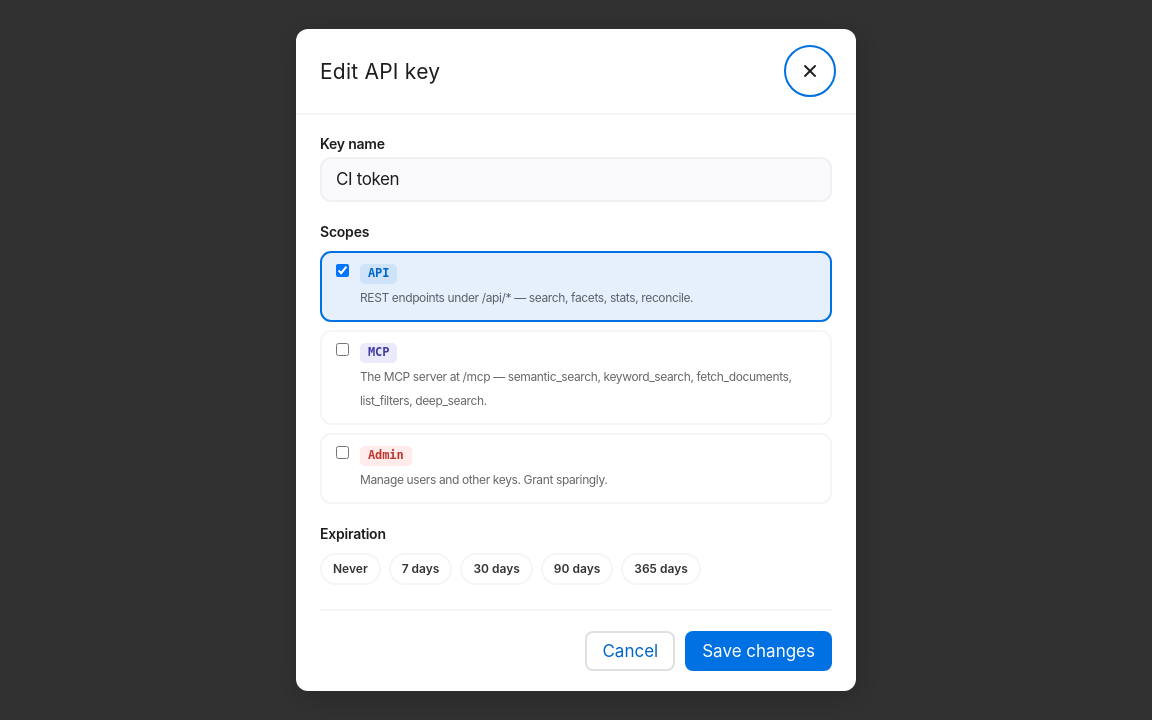
Test case: APIKeyEditPanel › rejects a submit with no scopes selected
The image size is (1152, 720).
// `api` is the only checked scope — turn it off.
Click the checkbox named "api" next to "API".
click(342, 270)  # box x1=336 y1=264 x2=349 y2=277
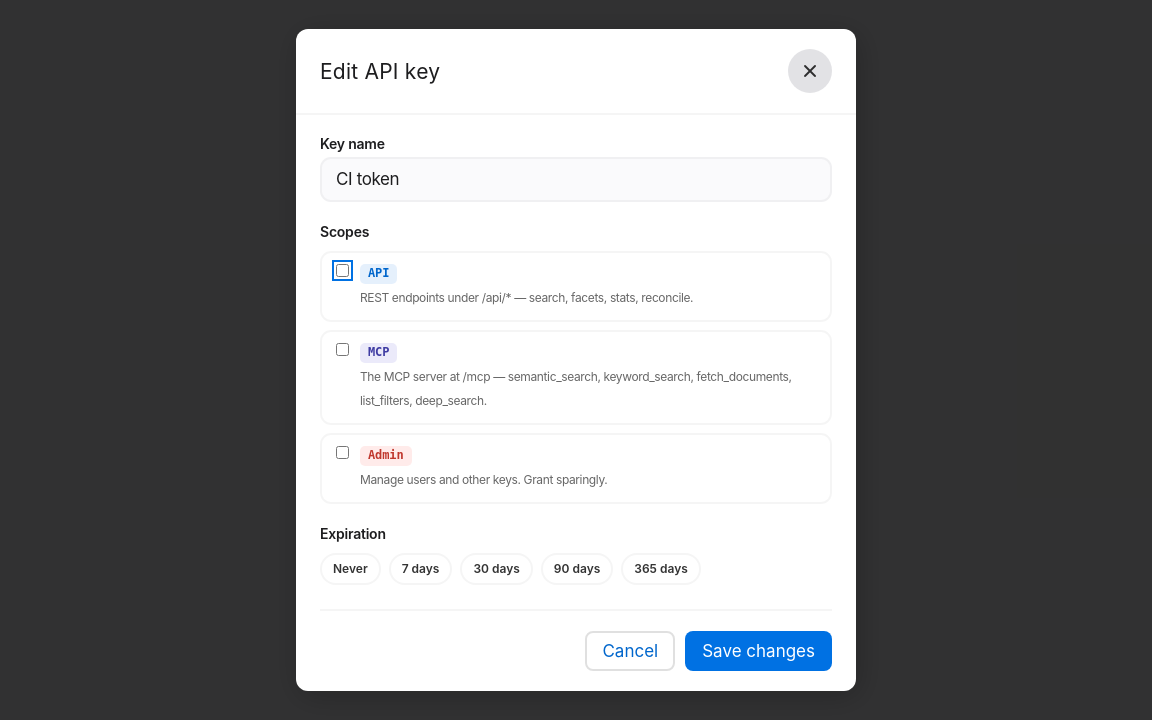
Click the 7th button named "save changes".
click(759, 651)  # box x1=685 y1=631 x2=832 y2=671
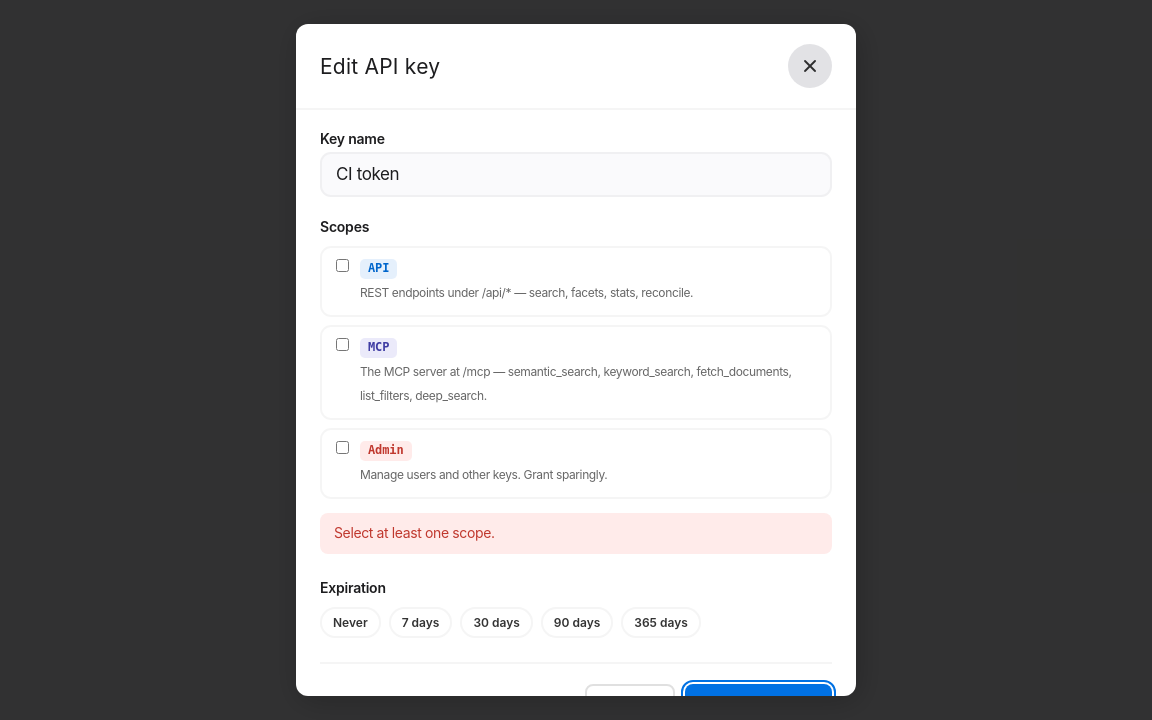
Result: the text "select at least one scope" is shown at x1=334 y1=524 x2=495 y2=541
